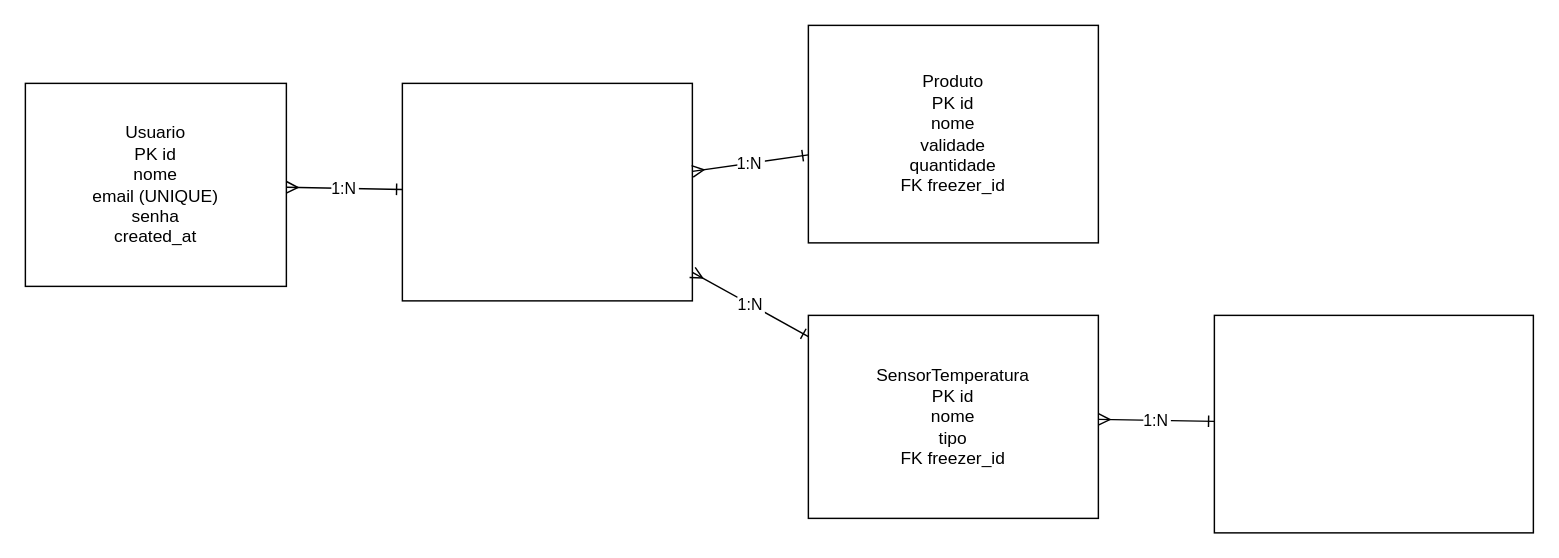
Some shapes in this 1559 by 558 pixel diagram are drawn without their labels. The shapes that lost their labels are listed below. From the top down, each one's centre as x and y in pixels, then its label:
At [546,191]: "Freezer PK id nome localizacao FK usuario_id created_at".
At [1373,423]: "HistoricoTemperatura PK id valor data_hora FK sensor_id".
